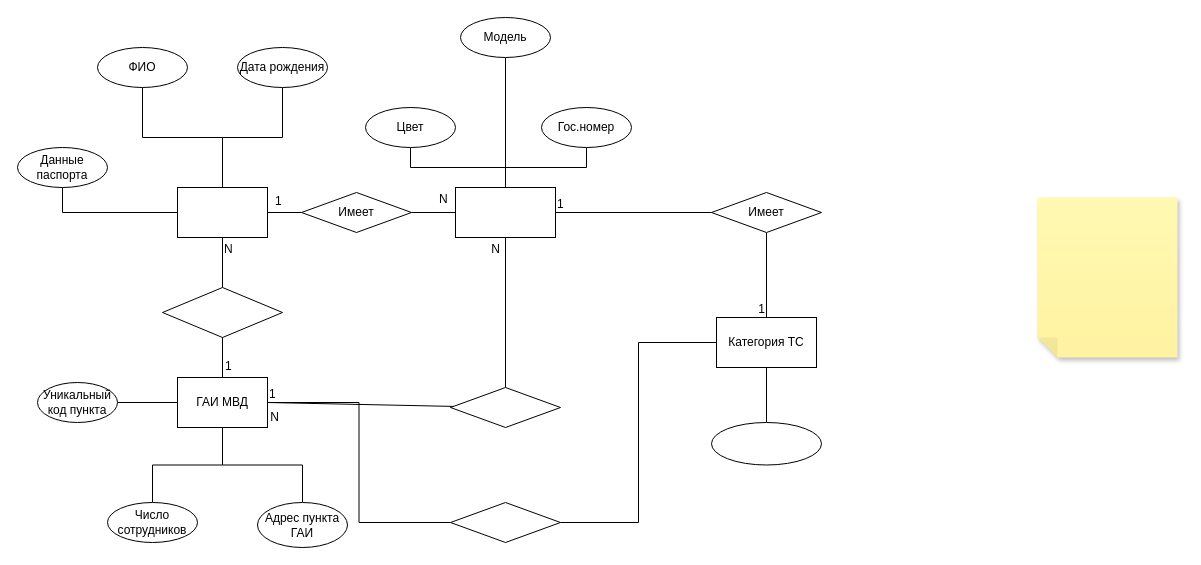
The diagram is 1201 pixels wide and 565 high, and some of its shapes have lost their labels. Here are the shapes that lost their labels. From the top down, the centre of each, then its label:
At (x=222, y=212): "Владелец ТС".
At (x=505, y=212): "Транспортное средство".
At (x=222, y=312): "Контролирует".
At (x=505, y=407): "Добавляет".
At (x=766, y=443): "Информация о категории".
At (x=505, y=522): "Устанавливает".
